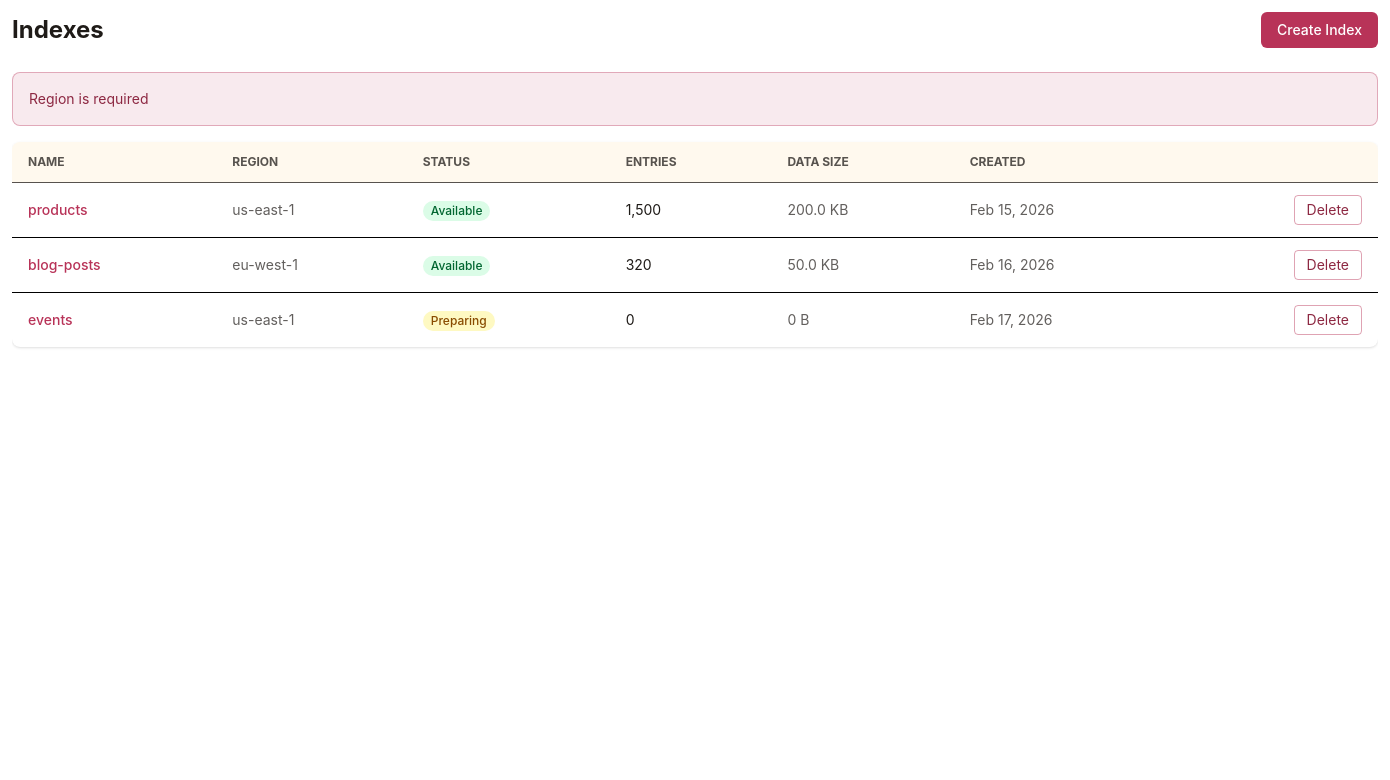
Test: Index list page › keeps plain create validation errors scoped to the dialog after enhanced create submit (Region is required)
Click the button "Create Index". click: (1320, 30)
box: [1261, 12, 1378, 48]
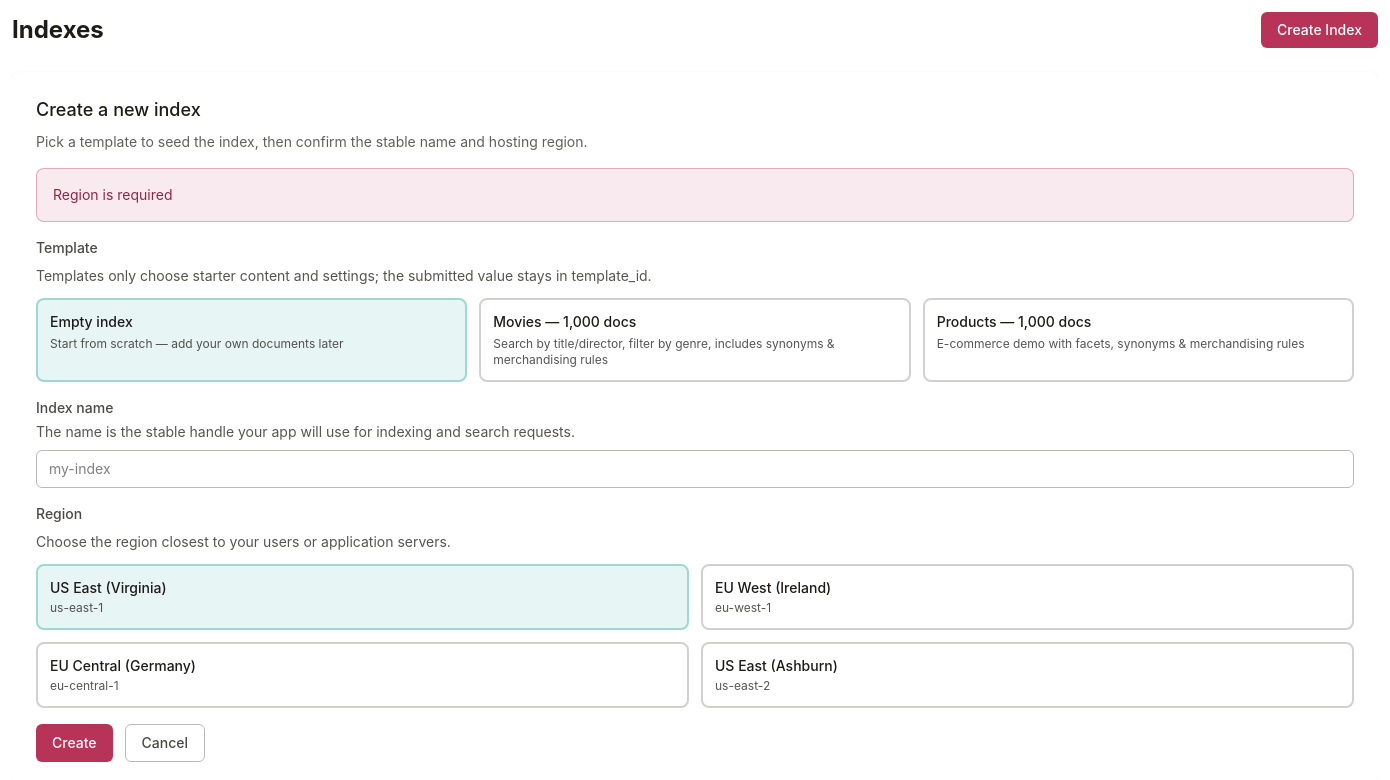
expect the message with test id "create-index-server-error" reads "Region is required": met, box [53, 186, 172, 203]
expect the number of messages is 1: met, box [36, 168, 1354, 222]
